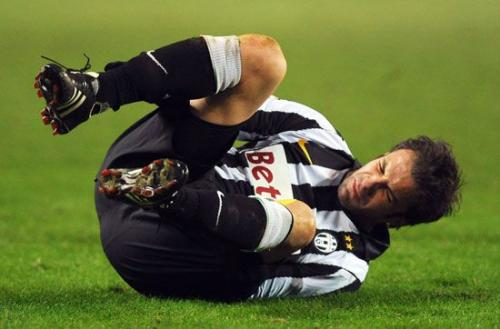down: (25, 28, 467, 308)
